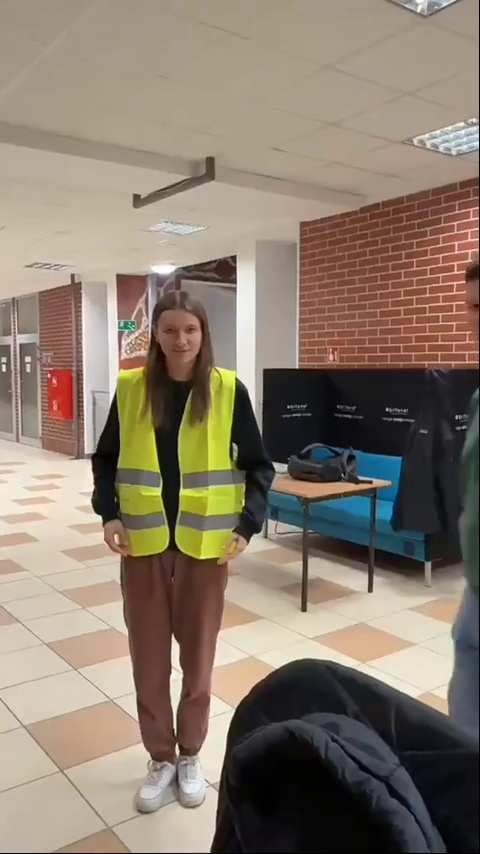vest: (91, 295, 279, 808)
